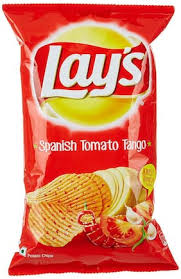lays-med: (7, 4, 176, 274)
